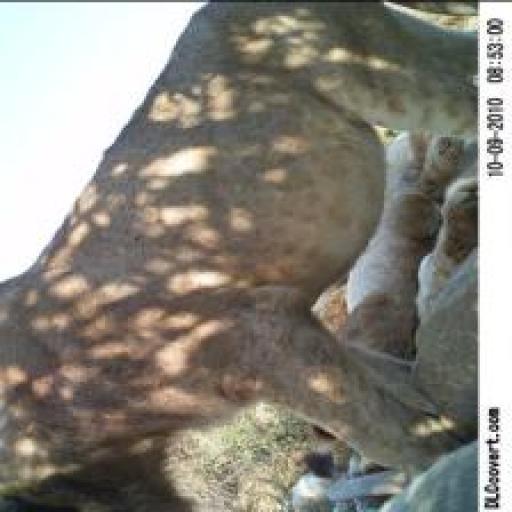lion: (5, 7, 480, 507)
